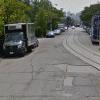Tree: (74, 3, 100, 28)
